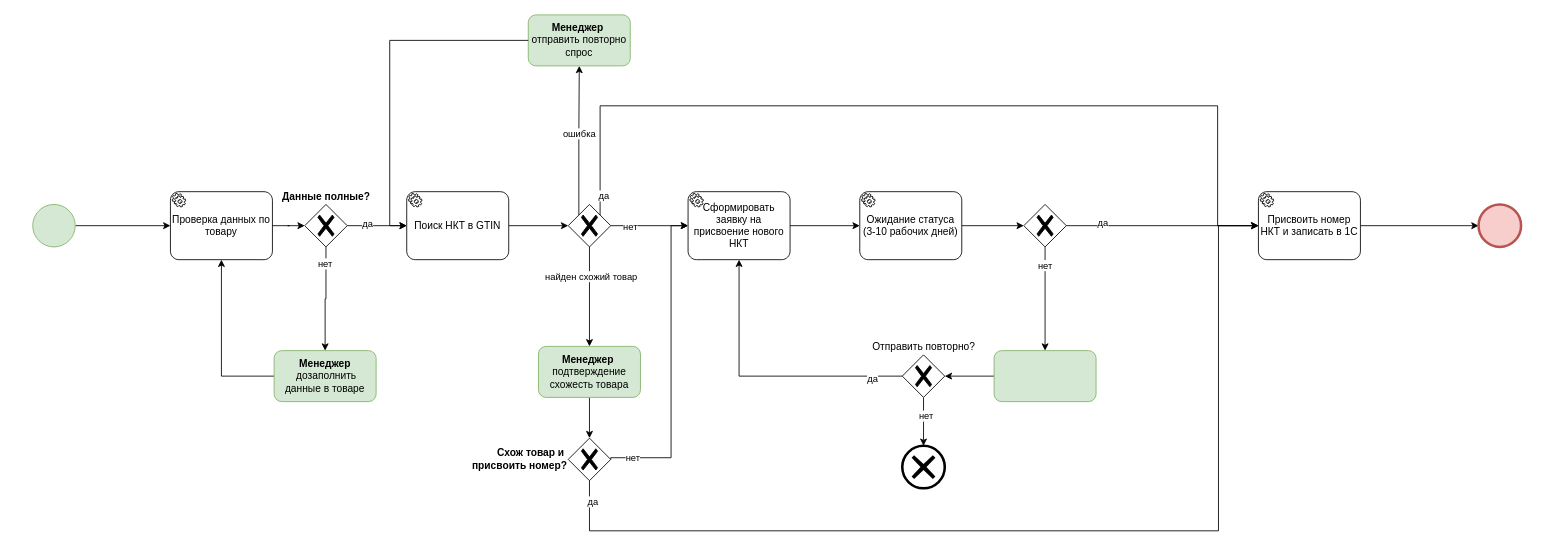
The diagram is 1563 pixels wide and 553 high, and some of its shapes have lost their labels. Here are the shapes that lost their labels. From the top down, the centre of each, then its label:
(53,225): Товар в очереди
(589,225): Найден?
(1044,225): Вернулся ответ через 10 рабочих дней?
(1499,225): Окончание процесса
(1044,376): Менеджер скорректировать данные по товару
